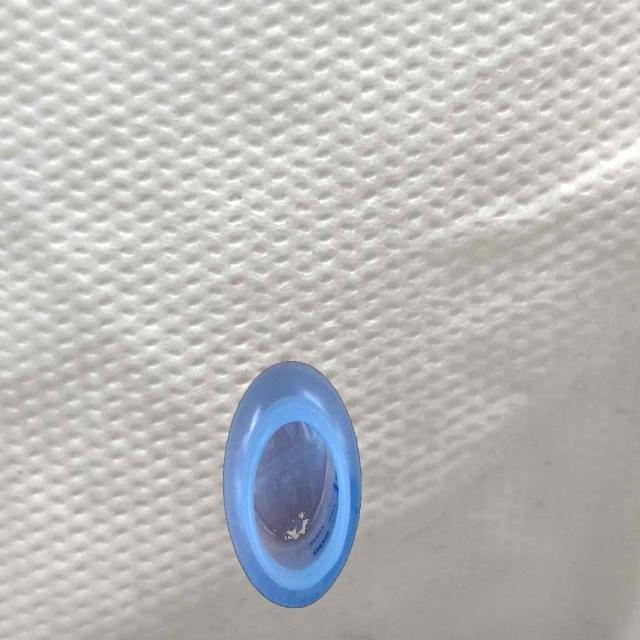bottle: (222, 356, 364, 610)
